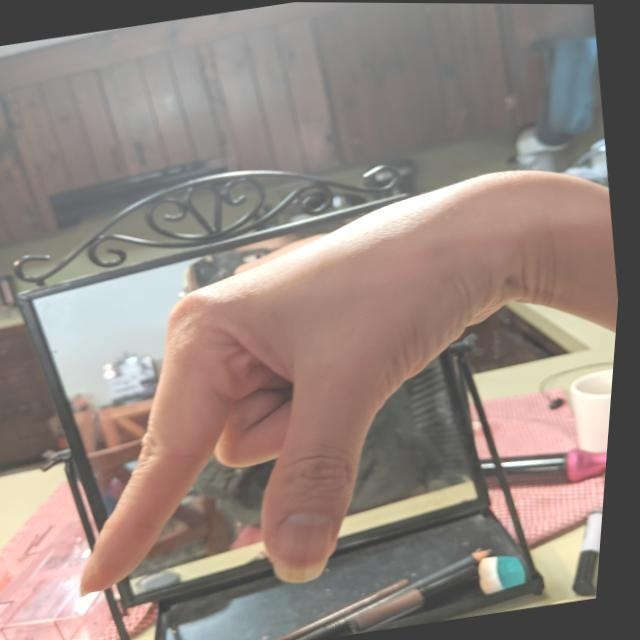Q: (22, 159, 578, 625)
